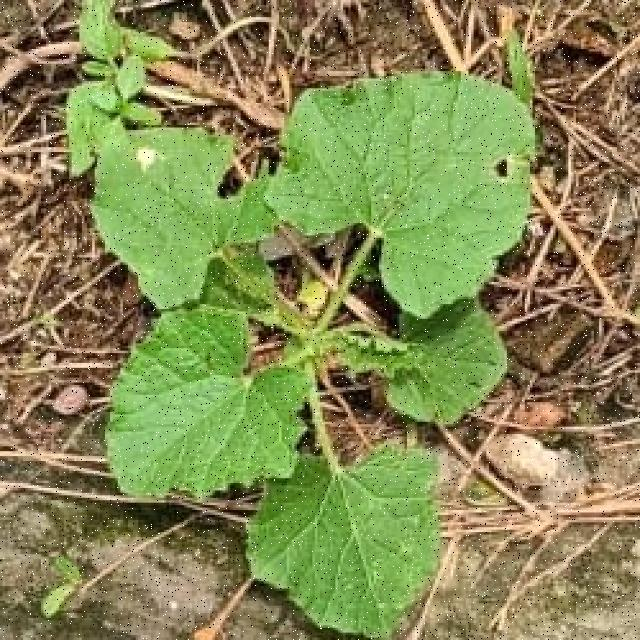plant: (92, 74, 532, 639)
